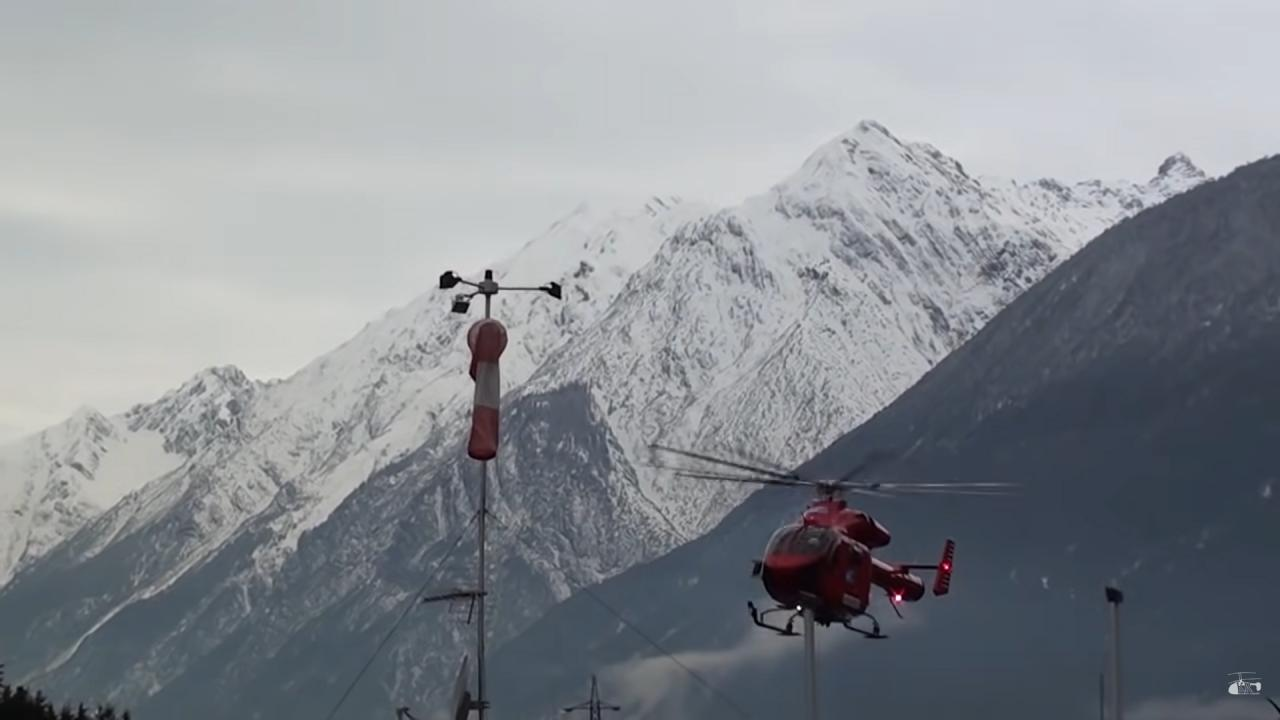Helicopter: (618, 425, 1042, 650)
